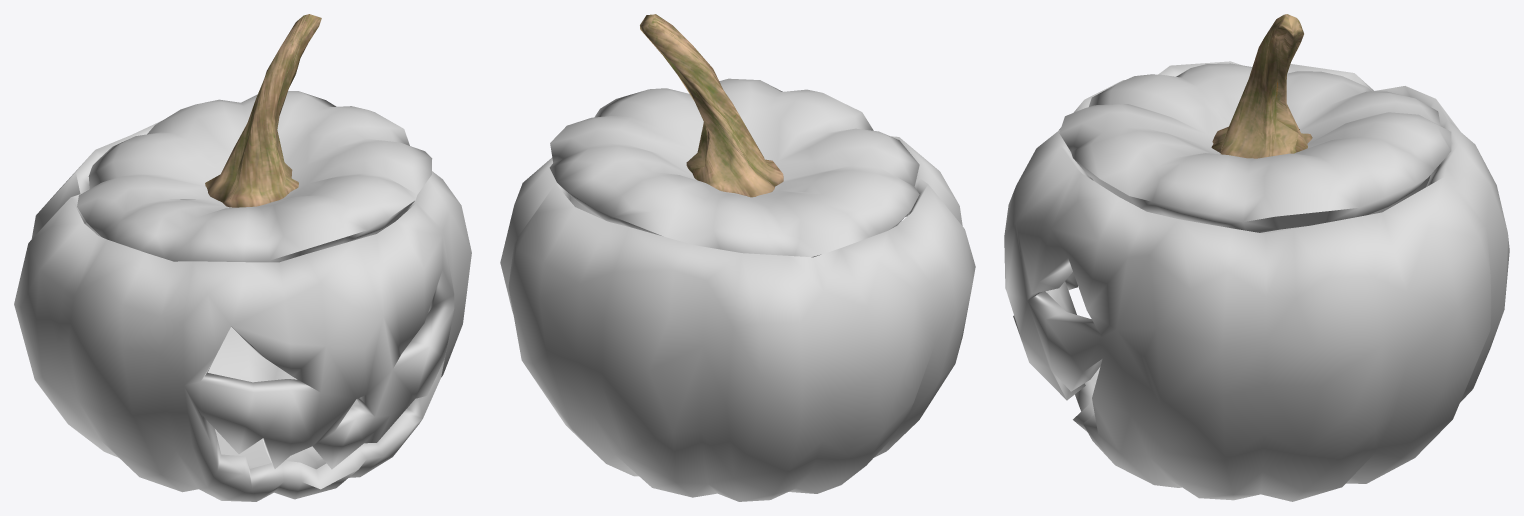
Rendered from Pumpkin.fbx.
3 views of the same model, side by side, from view 1: azimuth 30°, elevation 25°; view 2: azimuth 150°, elevation 25°; view 3: azimuth 270°, elevation 25° (orthographic). The views are drawn at different scales.
Parts seen in each view (by area): view 1: Pumpkin; view 2: Pumpkin; view 3: Pumpkin.
Part boxes in pixels (x1=…): Pumpkin: x1=14, y1=14, x2=471, y2=501; Pumpkin: x1=500, y1=14, x2=975, y2=501; Pumpkin: x1=1004, y1=14, x2=1509, y2=501.
Size of the model in its own units: 50.96 by 51.94 by 49.21.
